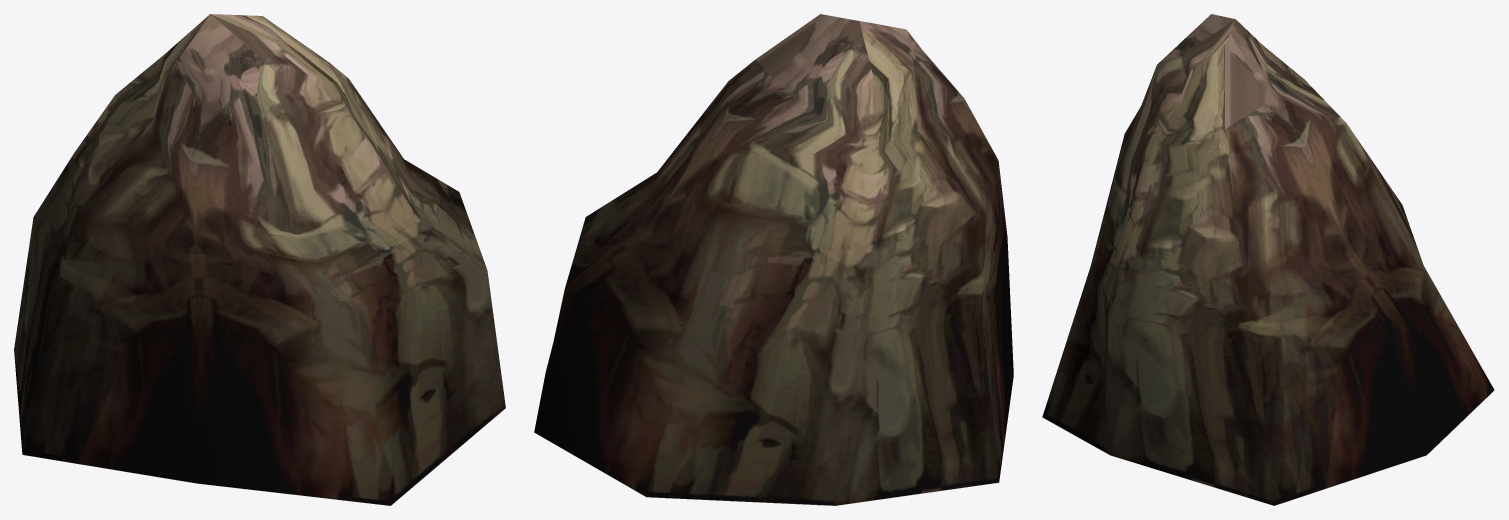
File: mound_brown_med.fbx
The picture shows the model from 3 angles, left to right: view 1: azimuth 30°, elevation 25°; view 2: azimuth 150°, elevation 25°; view 3: azimuth 270°, elevation 25°; orthographic projection. The views are drawn at different scales.
Visible parts, largest first — view 1: mound_med_high; view 2: mound_med_high; view 3: mound_med_high.
Boxes of the visible parts, <box> form: mound_med_high: <box>14,14,505,505</box>; mound_med_high: <box>534,14,1013,505</box>; mound_med_high: <box>1042,14,1494,505</box>.
Bounding box in the file's own units: 15562 × 13649 × 15161.
1 material, 1 textured.
